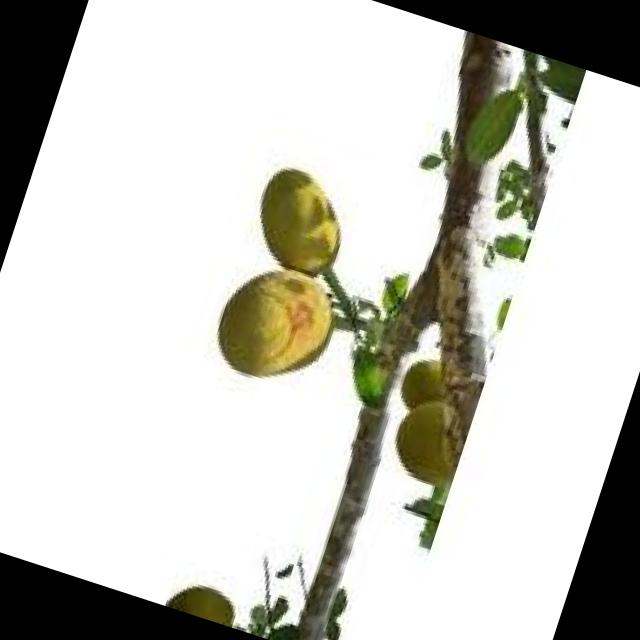Fruit: (172, 168, 390, 428), (126, 546, 265, 634)
